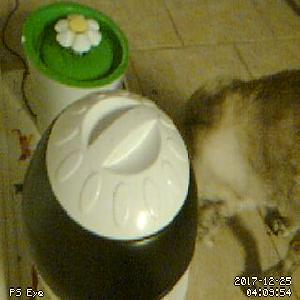cat: (171, 67, 300, 297)
fountain: (21, 3, 130, 90)
